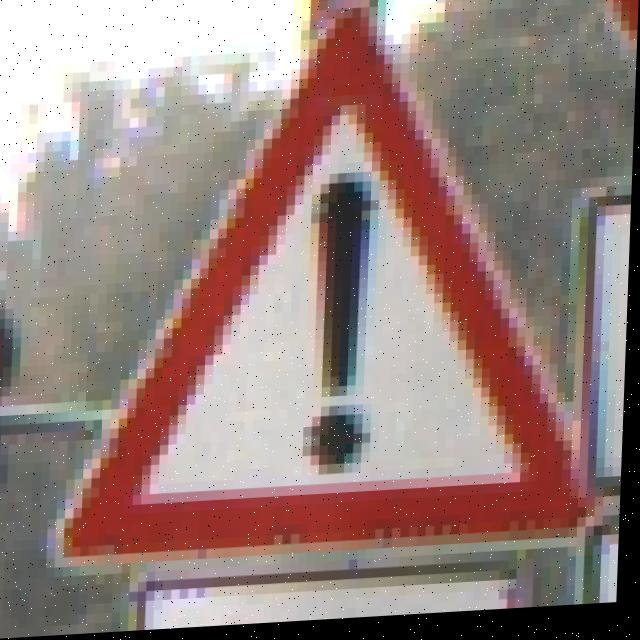warning: (83, 30, 568, 571)
